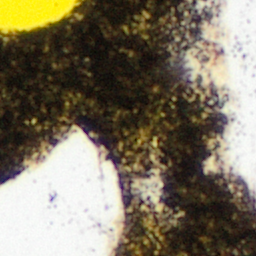air_pores: (0, 0, 81, 34)
cement_matrix: (0, 0, 255, 255), (130, 165, 164, 214)
gravel_crushed_stones: (181, 0, 255, 205), (0, 131, 121, 255), (131, 166, 163, 213)
